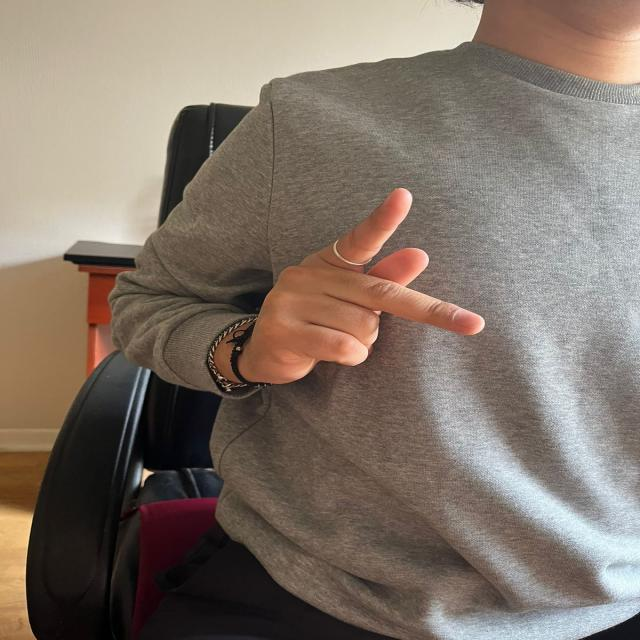K: (260, 183, 503, 402)
